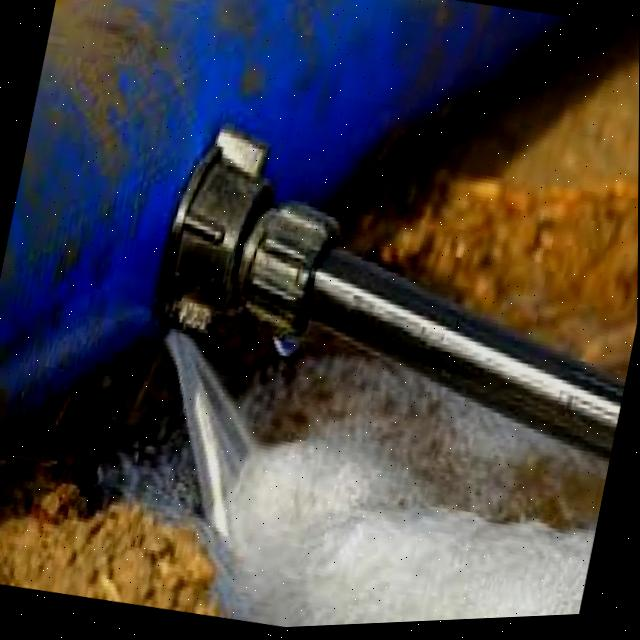corrosion: (80, 262, 279, 419)
